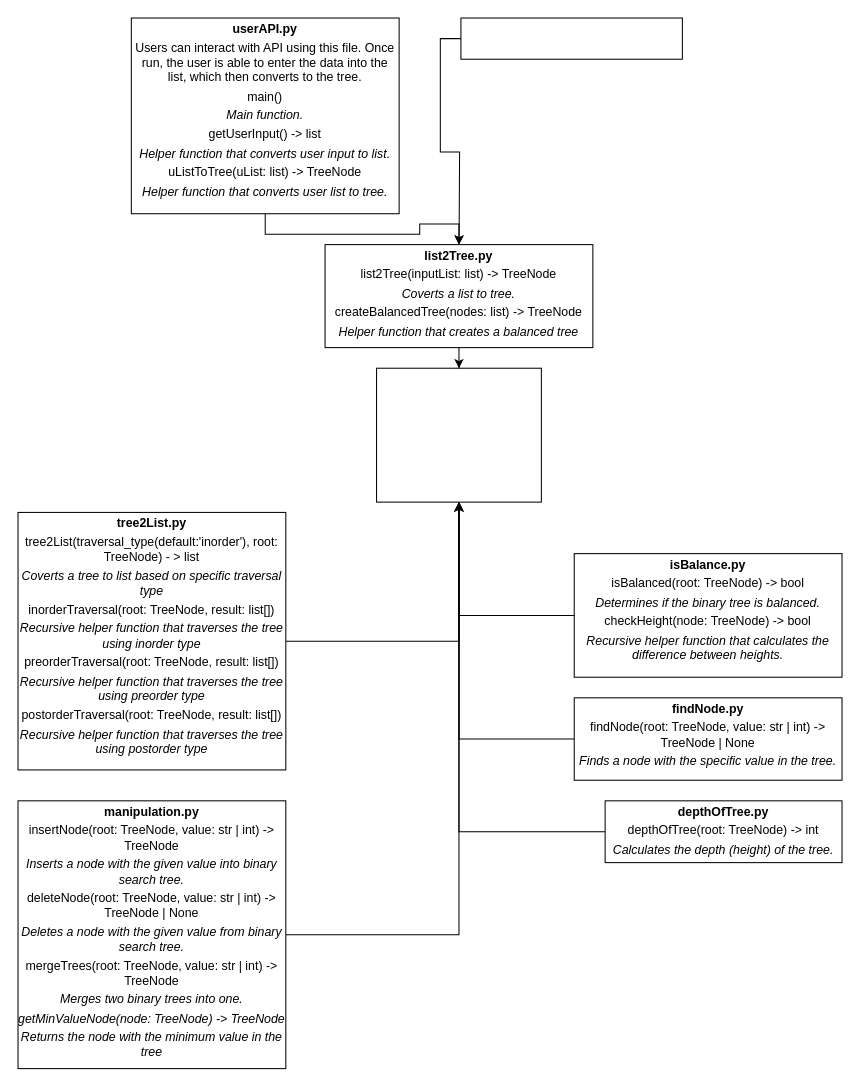
Some shapes in this 860 by 1087 pixel diagram are drawn without their labels. Here are the shapes that lost their labels. From the top down, the centre of each, then its label:
At pixel 571 38: "main.py Testing file .".
At pixel 458 434: "TreeNode.py + val: int + left: int + right: int + TreeNode(val) + printTree()".
